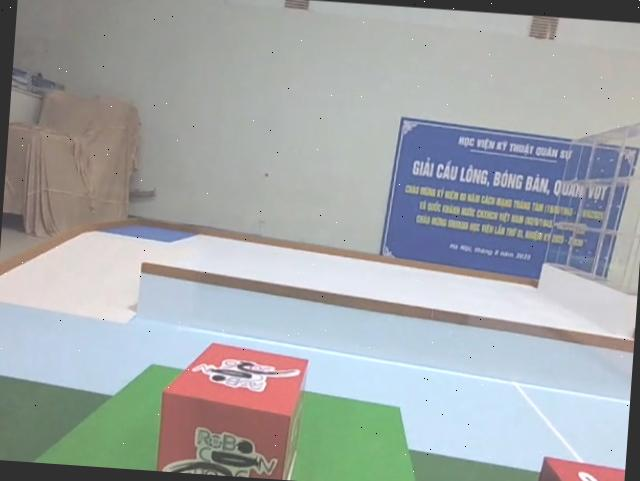R1: (155, 336, 308, 480)
R2 Real: (523, 448, 625, 481)
